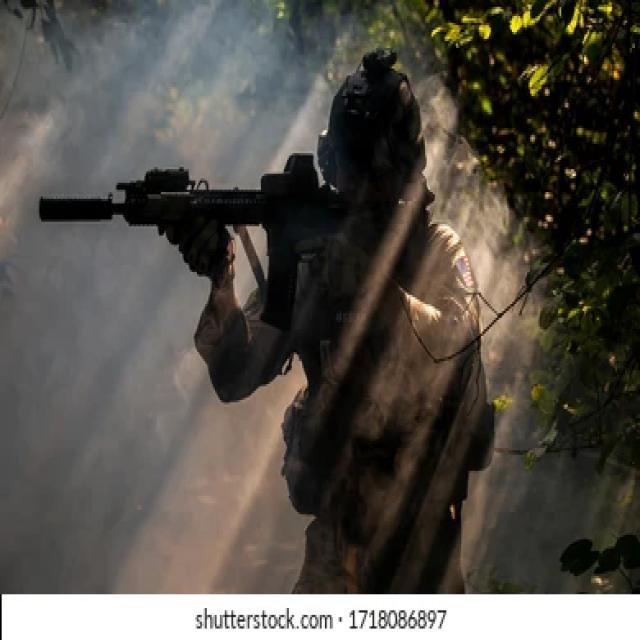soldier: (40, 61, 497, 597)
